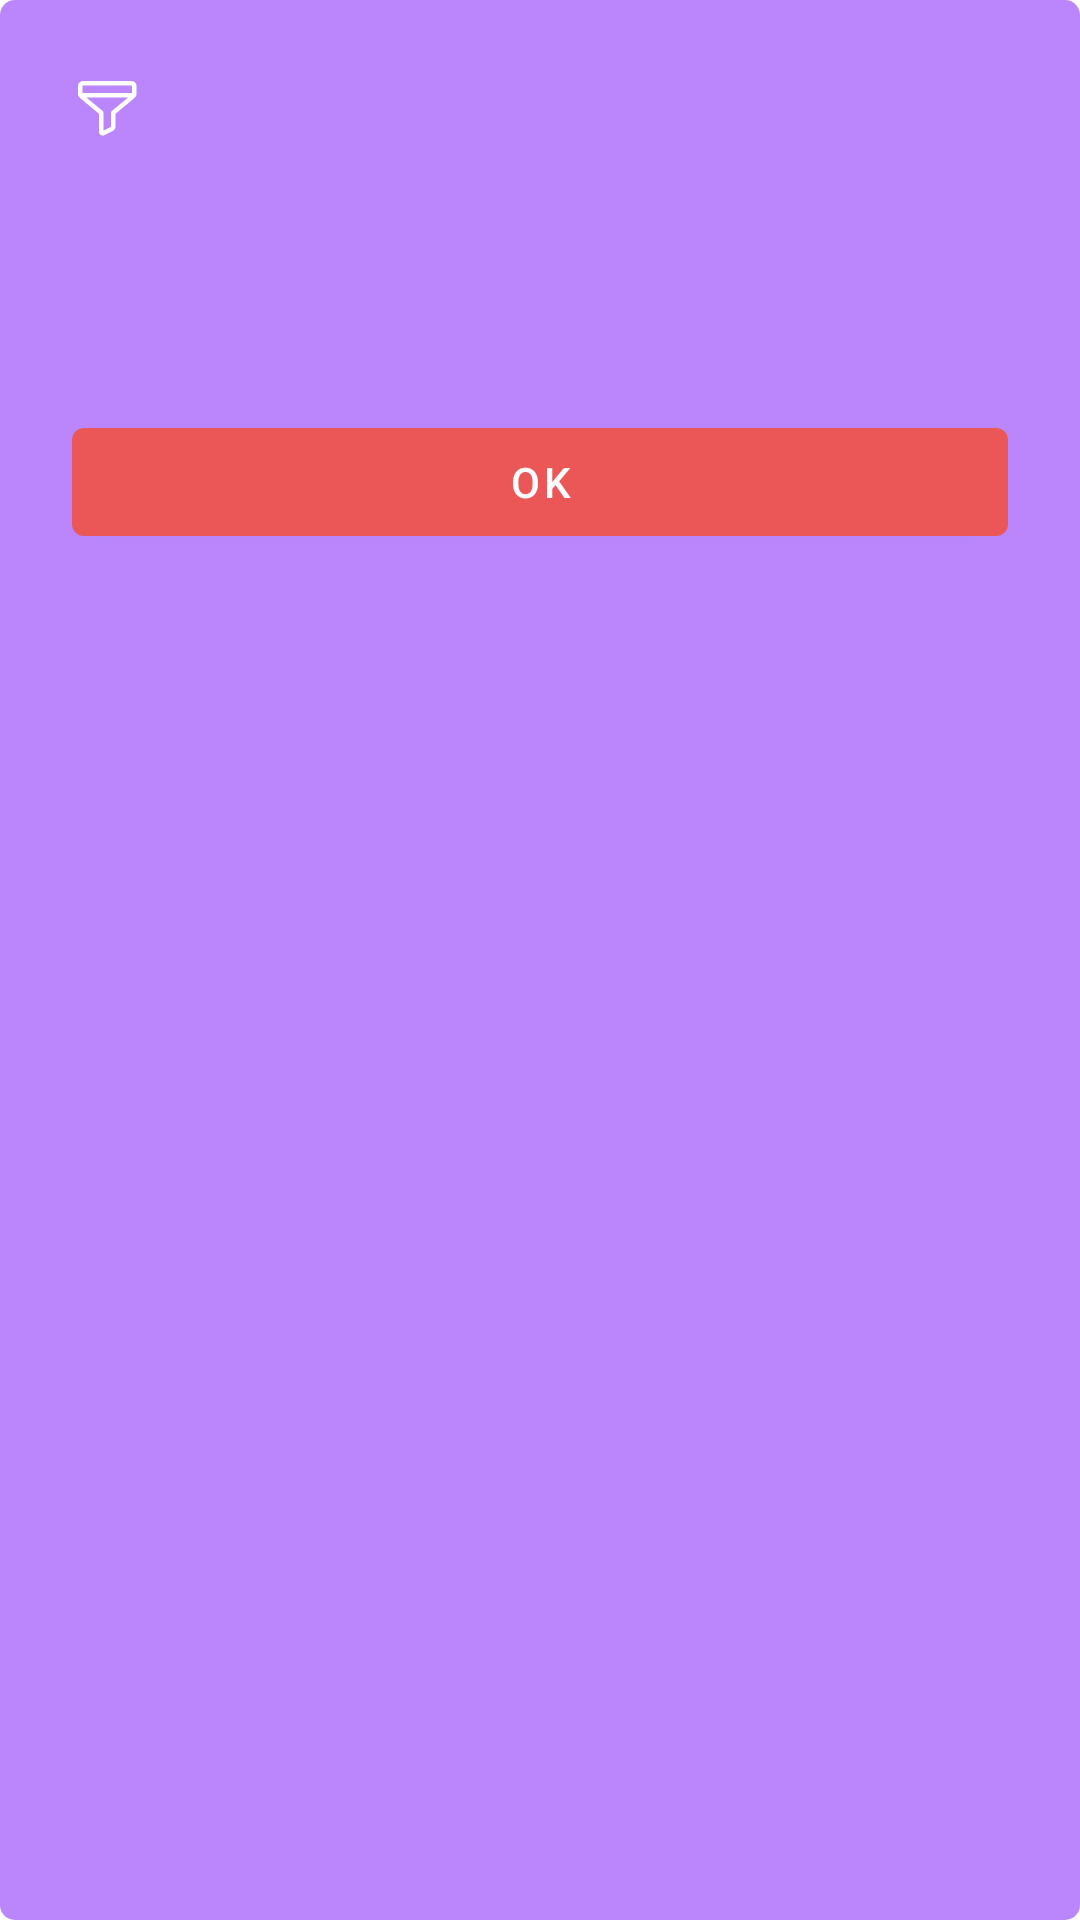

Named icons in this screenshot (1080×1920) and their bounding boxes, box(x1, y1, x2, y2):
filter: box(78, 81, 137, 136)
